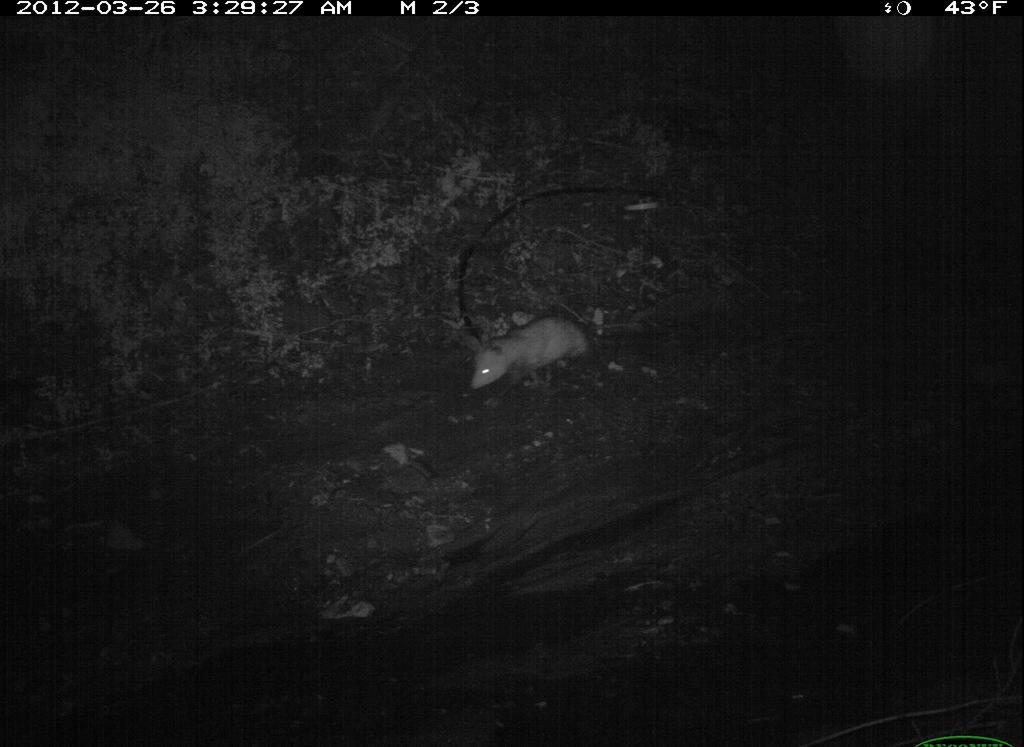opossum: (436, 304, 637, 410)
